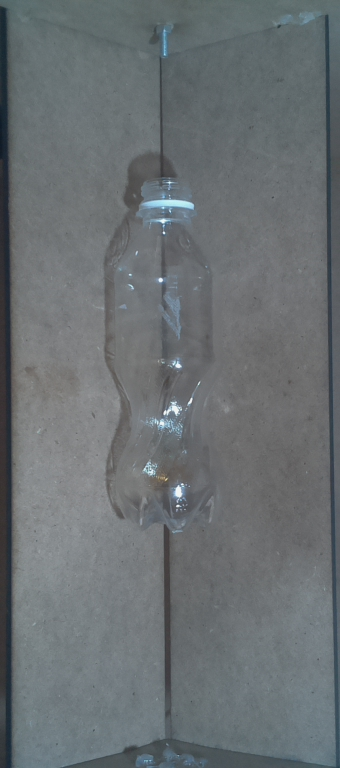Bouteille_0.3L: (100, 163, 233, 543)
